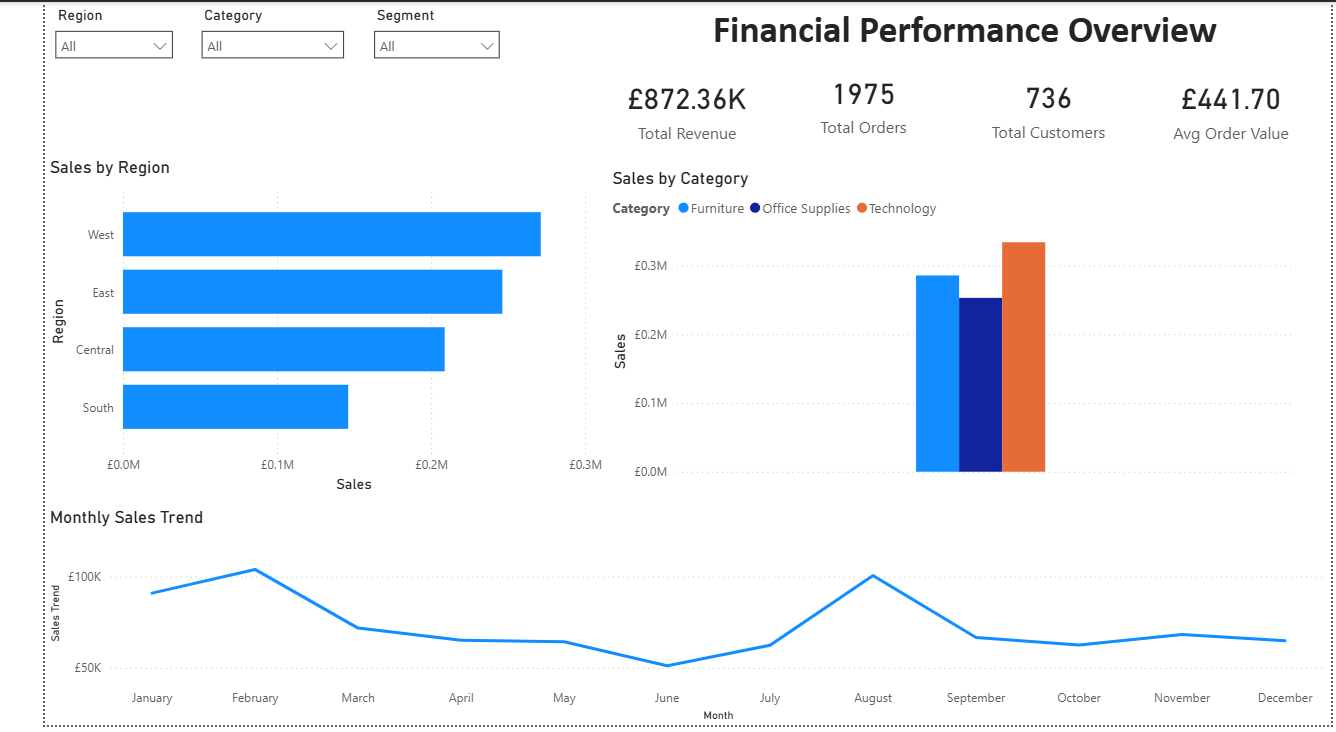

The page's visual inventory and layout, read from the dashboard file:
{"tool":"powerbi","page":{"name":"Page 1","canvas":[1280,720],"ordinal":0},"visuals":[{"type":"clusteredColumnChart","fields":{"Y":["train.Total Sales"],"Series":["train.Category"]},"box":[559.8,165.4,685.4,316],"z":0},{"type":"clusteredBarChart","fields":{"Y":["train.Total Sales"],"Category":["train.Region"]},"box":[0,154.3,559.8,338.4],"z":1000},{"type":"lineChart","title":"Monthly Sales Trend","fields":{"Y":["train.Total Sales"],"Category":["train.Order Date.Variation.Date Hierarchy.Month"]},"box":[0,502.2,1280.3,218.2],"z":2000},{"type":"slicer","fields":{"Values":["train.Region"]},"box":[0,0,137.2,149.6],"z":3000},{"type":"slicer","fields":{"Values":["train.Category"]},"box":[145.5,0,161.7,120.7],"z":4000},{"type":"slicer","fields":{"Values":["train.Segment"]},"box":[317.2,0,145.5,120.7],"z":5000},{"type":"textbox","box":[585.9,0,658.7,60.4],"z":6000},{"type":"card","fields":{"Values":["train.Total Sales"]},"box":[547.5,60.4,183.9,89.2],"z":6001},{"type":"card","fields":{"Values":["train.Total Orders"]},"box":[714,56,201.5,88.3],"z":6002},{"type":"card","fields":{"Values":["train.Total Customers"]},"box":[901.9,54.7,194.1,99.5],"z":6003},{"type":"card","fields":{"Values":["train.Avg Order Value"]},"box":[1095.9,56,169.2,99.5],"z":6004}]}

Visuals, with their boxes in screenshot pixels (x1, y1, x2, y2), scaled from the page's 1280x720 canvas onto the 1336x732 screenshot:
clusteredColumnChart - train.Total Sales x train.Category: locate(584, 168, 1300, 489)
clusteredBarChart - train.Total Sales x train.Region: locate(0, 157, 584, 501)
"Monthly Sales Trend" lineChart: locate(0, 511, 1335, 731)
slicer - train.Region: locate(0, 0, 143, 152)
slicer - train.Category: locate(152, 0, 321, 123)
slicer - train.Segment: locate(331, 0, 483, 123)
textbox: locate(612, 0, 1299, 61)
card - train.Total Sales: locate(571, 61, 763, 152)
card - train.Total Orders: locate(745, 57, 956, 147)
card - train.Total Customers: locate(941, 56, 1144, 157)
card - train.Avg Order Value: locate(1144, 57, 1320, 158)
